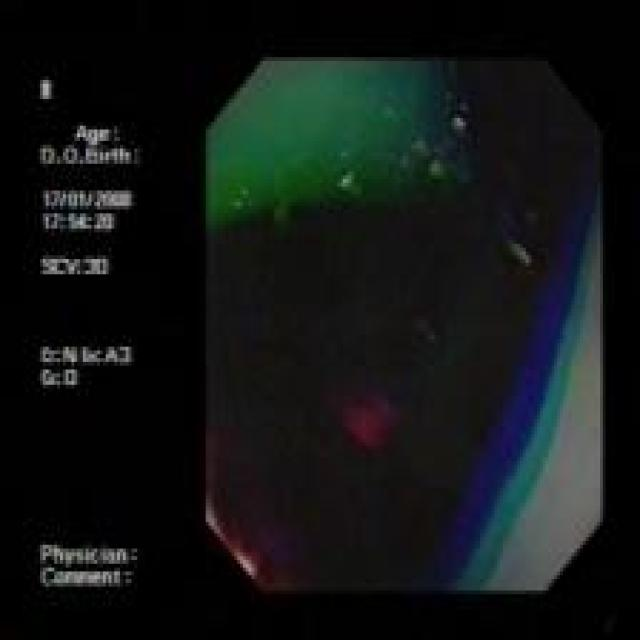color misalignment: (206, 58, 605, 597), (433, 166, 603, 599), (207, 60, 538, 264), (32, 76, 145, 597)
contrast: (207, 269, 434, 599)
